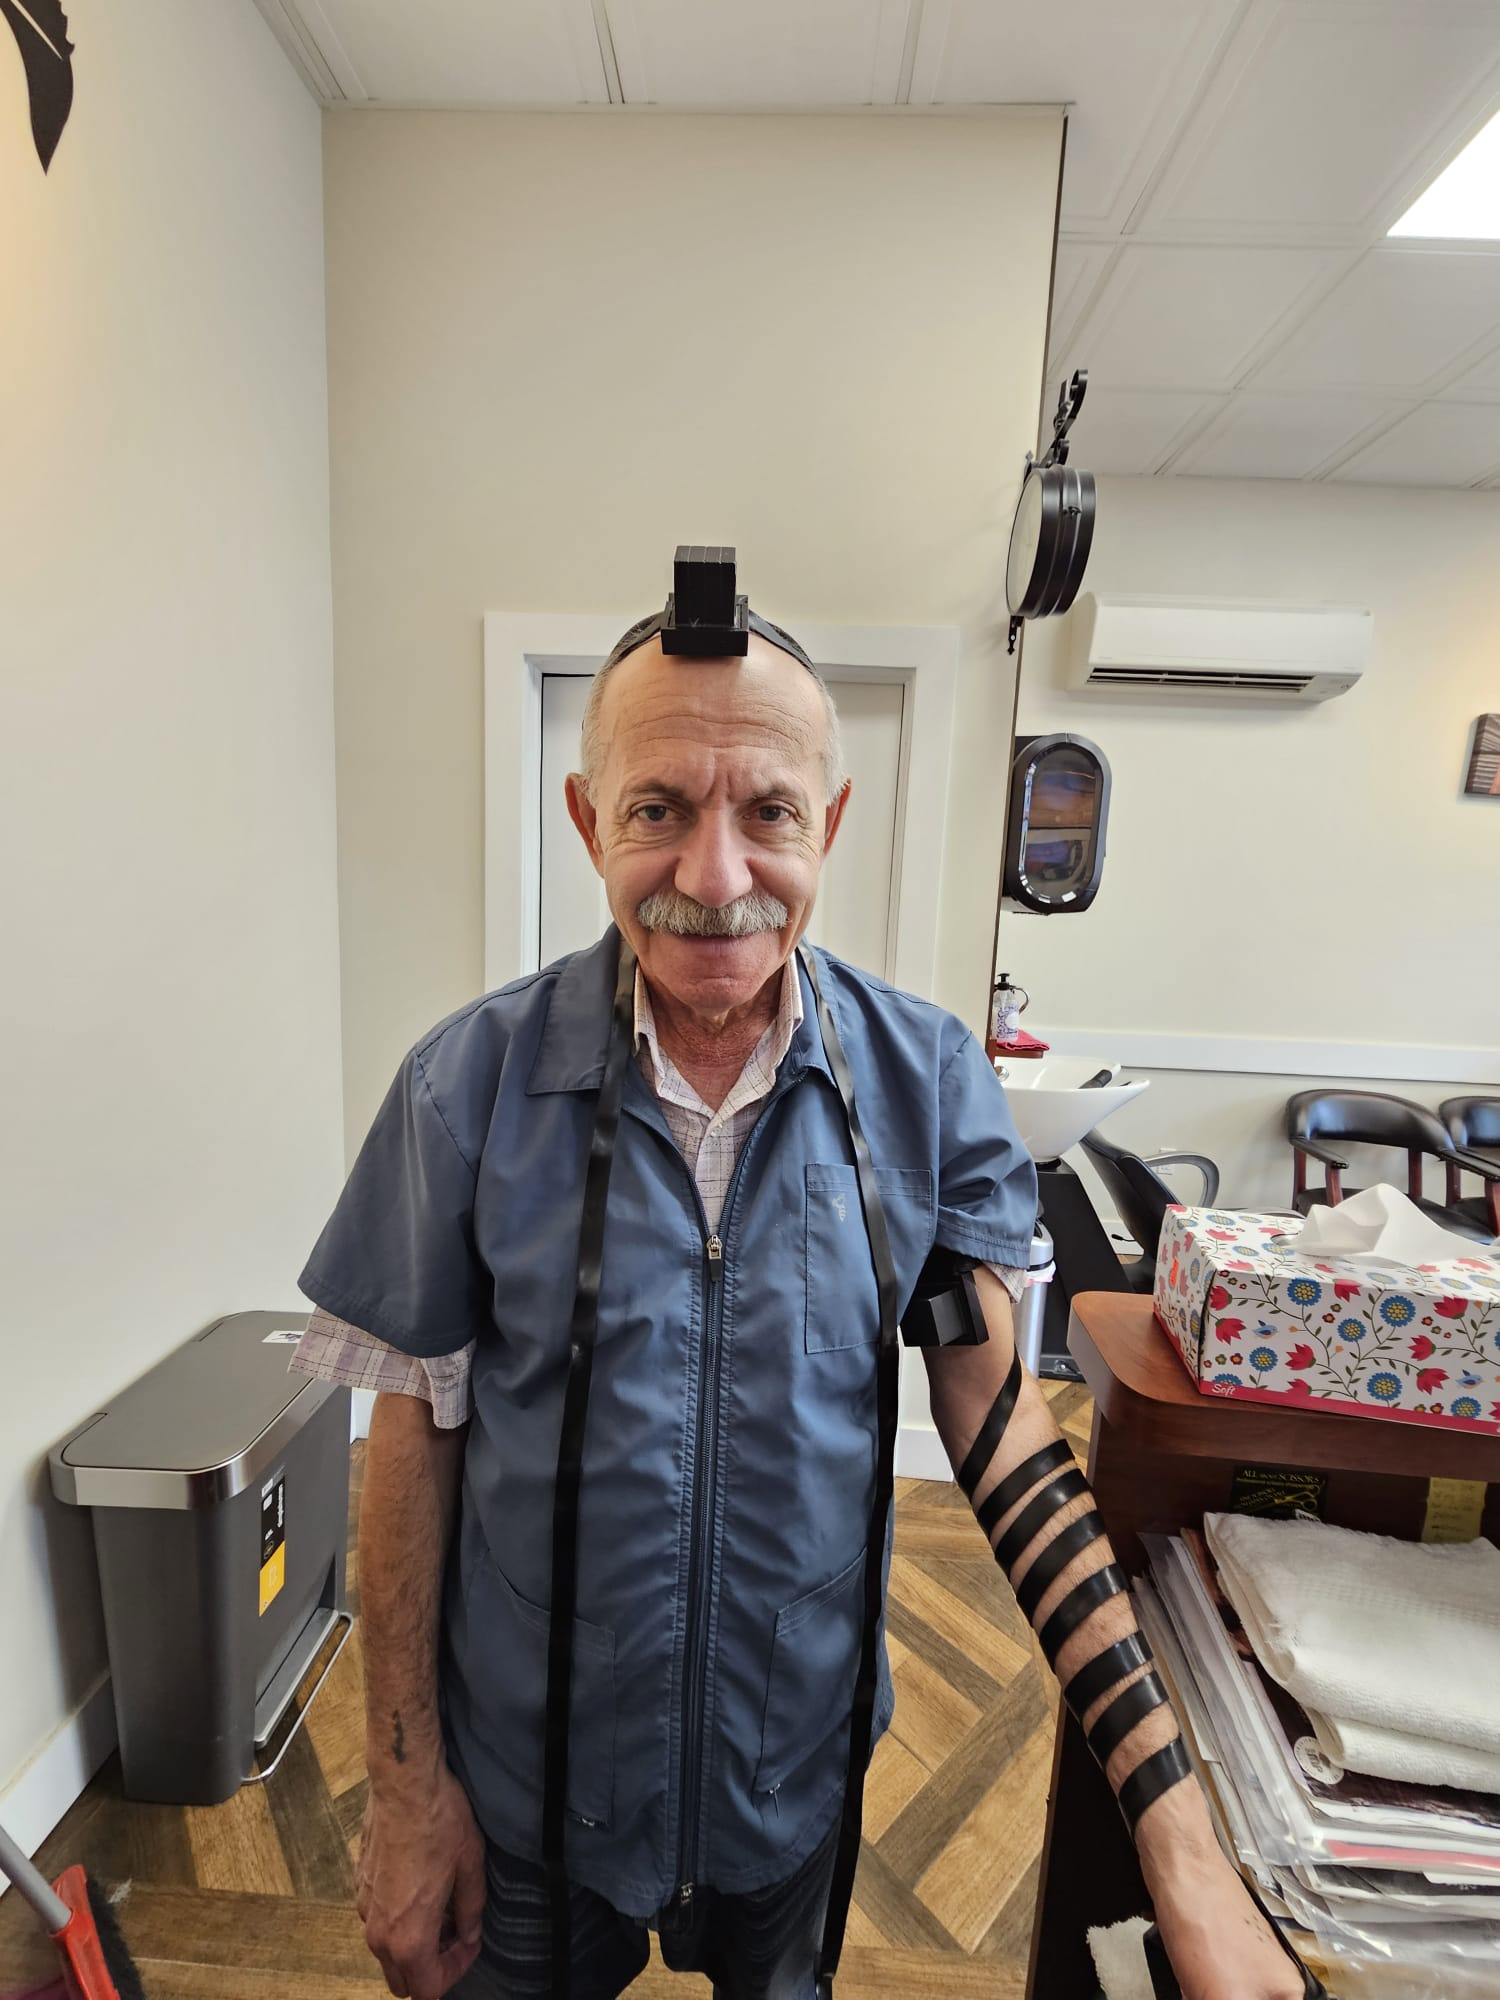tefillin: (657, 545, 748, 665), (901, 1257, 989, 1348)
